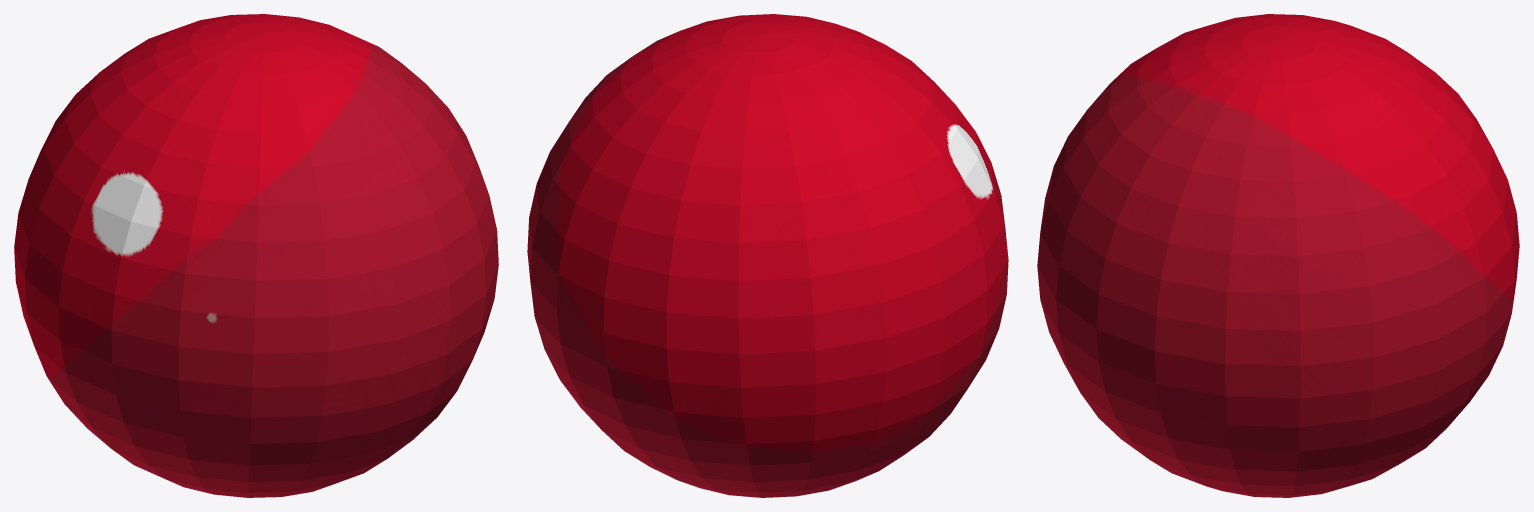
File: building_ball.fbx
3 views of the same model, side by side, from view 1: azimuth 30°, elevation 25°; view 2: azimuth 150°, elevation 25°; view 3: azimuth 270°, elevation 25° (orthographic).
Parts seen in each view (by area): view 1: headusOBJexport; view 2: headusOBJexport; view 3: headusOBJexport.
Boxes of the visible parts, <box> form: headusOBJexport: <box>14,14,498,497</box>; headusOBJexport: <box>527,14,1008,497</box>; headusOBJexport: <box>1037,14,1519,497</box>.
Bounding box in the file's own units: 1.99 × 2 × 1.99.
